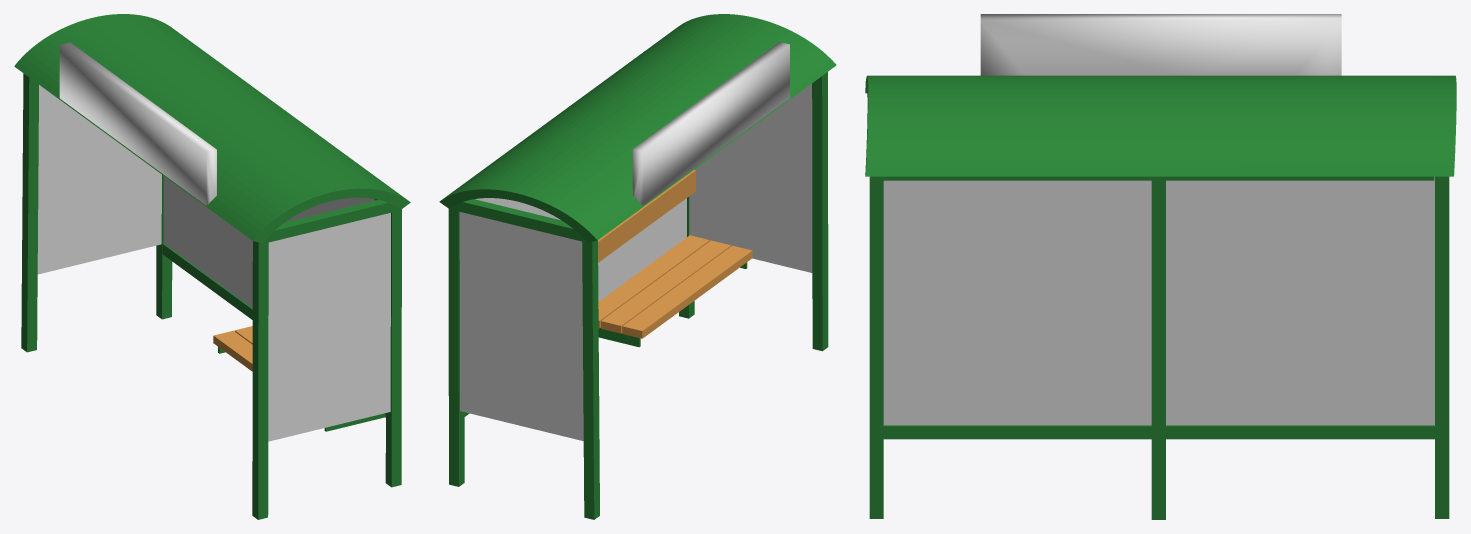
Rendered from Przystanek.fbx.
3 renders of one model, left to right at view 1: azimuth 30°, elevation 25°; view 2: azimuth 150°, elevation 25°; view 3: azimuth 270°, elevation 25°, orthographic. The views are drawn at different scales.
Visible parts, largest first — view 1: Przystanek; view 2: Przystanek; view 3: Przystanek.
Part boxes in pixels (<box>): Przystanek: <box>14,14,410,519</box>; Przystanek: <box>439,14,836,519</box>; Przystanek: <box>865,14,1456,519</box>.
Bounding box in the file's own units: 275 × 561 × 724.
